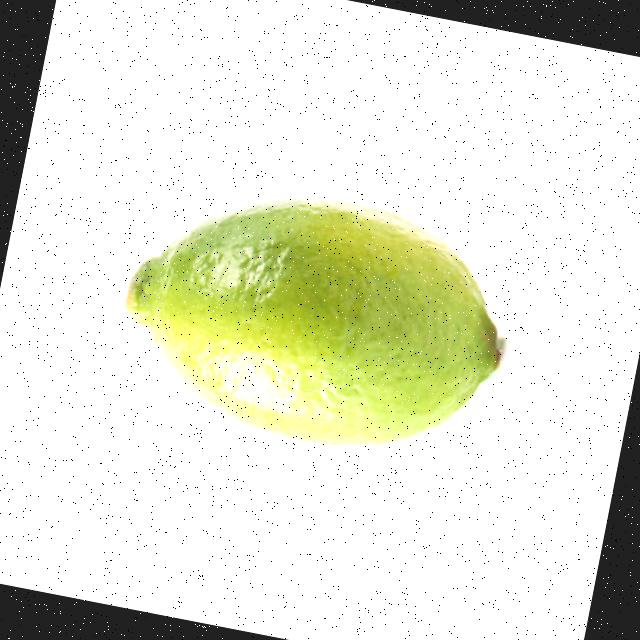Unripe: (99, 159, 526, 473)
